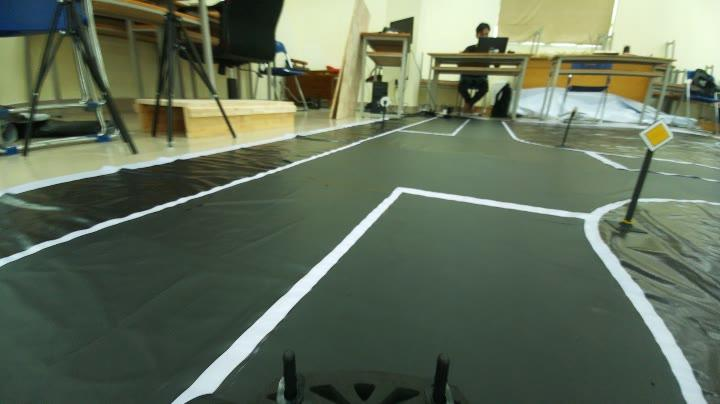priority: (632, 114, 680, 156)
